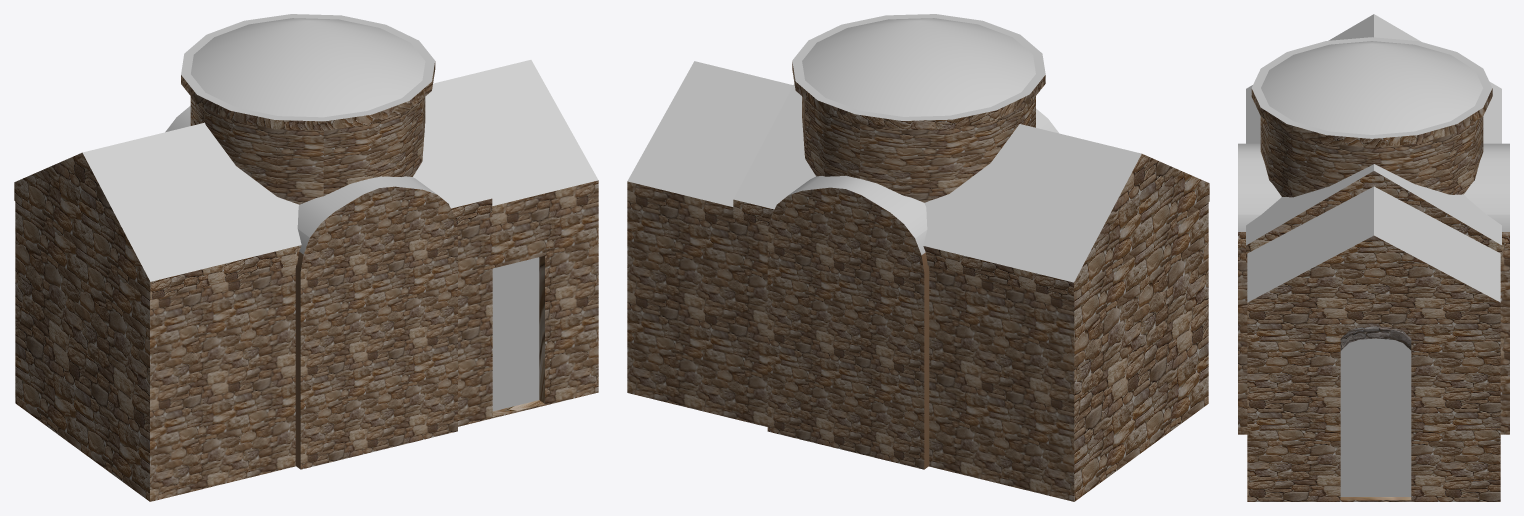
File: SM_Church_2.fbx
3 views of the same model, side by side, from view 1: azimuth 30°, elevation 25°; view 2: azimuth 150°, elevation 25°; view 3: azimuth 270°, elevation 25° (orthographic). The views are drawn at different scales.
Parts seen in each view (by area): view 1: Cylinder; view 2: Cylinder; view 3: Cylinder.
Part boxes in pixels (x1=…): Cylinder: x1=14, y1=14, x2=598, y2=501; Cylinder: x1=627, y1=14, x2=1209, y2=501; Cylinder: x1=1238, y1=14, x2=1509, y2=501.
Bounding box in the file's own units: 534 × 424 × 294.
